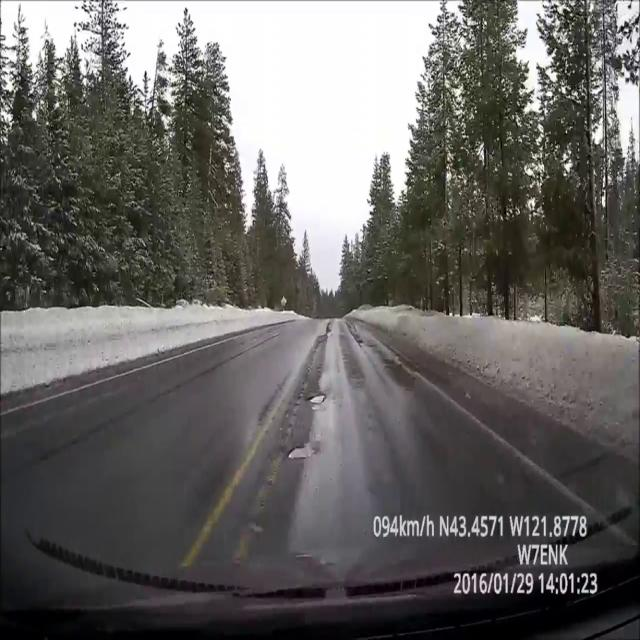Pothole: (287, 438, 319, 465), (305, 388, 326, 409)
